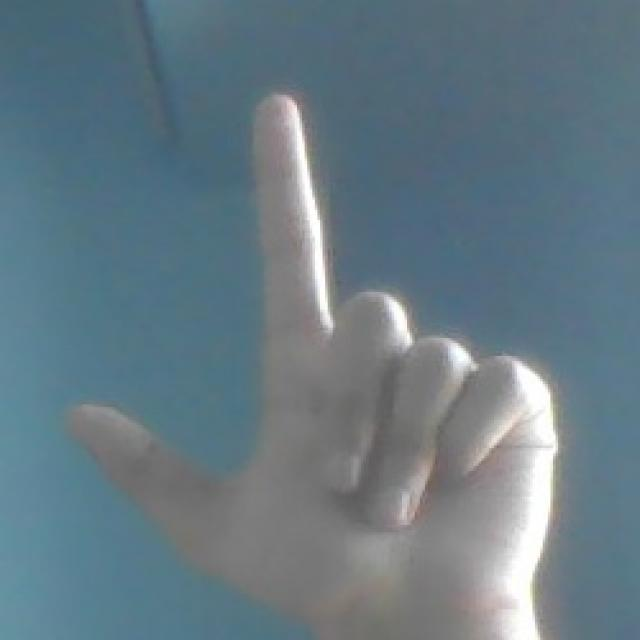Alphabet-L: (63, 69, 544, 640)
